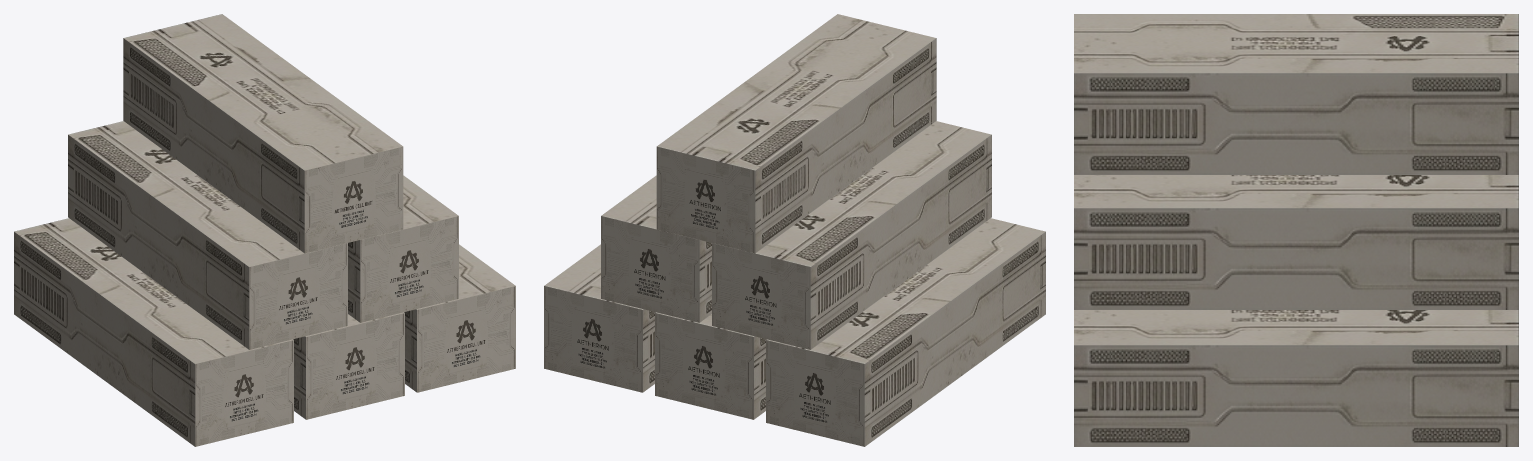
Rendered from energycells.glb.
3 renders of one model, left to right at view 1: azimuth 30°, elevation 25°; view 2: azimuth 150°, elevation 25°; view 3: azimuth 270°, elevation 25°, orthographic. The views are drawn at different scales.
Parts seen in each view (by area): view 1: EnergyCells; view 2: EnergyCells; view 3: EnergyCells.
Part boxes in pixels (<box>): EnergyCells: <box>14,14,515,446</box>; EnergyCells: <box>544,14,1045,446</box>; EnergyCells: <box>1074,14,1518,446</box>.
Size of the model in its own units: 1.76 by 1.31 by 1.72.
1 material, 1 textured.
